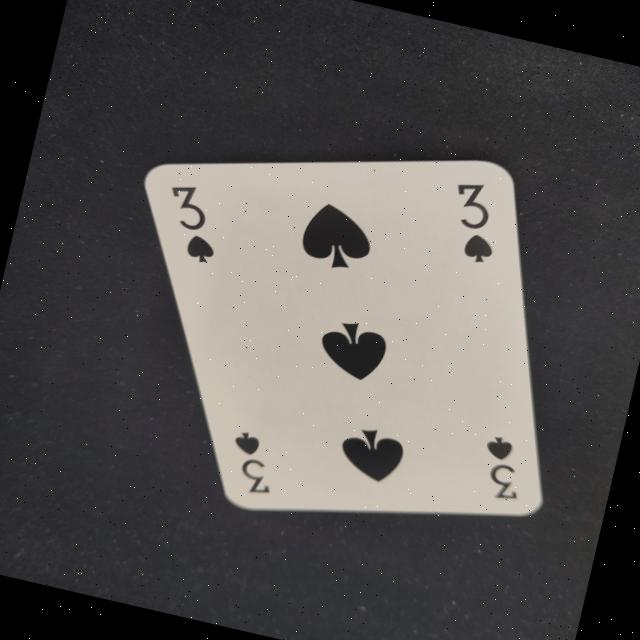3s: (146, 173, 242, 275), (426, 169, 516, 272), (210, 412, 292, 502), (460, 421, 538, 505)
